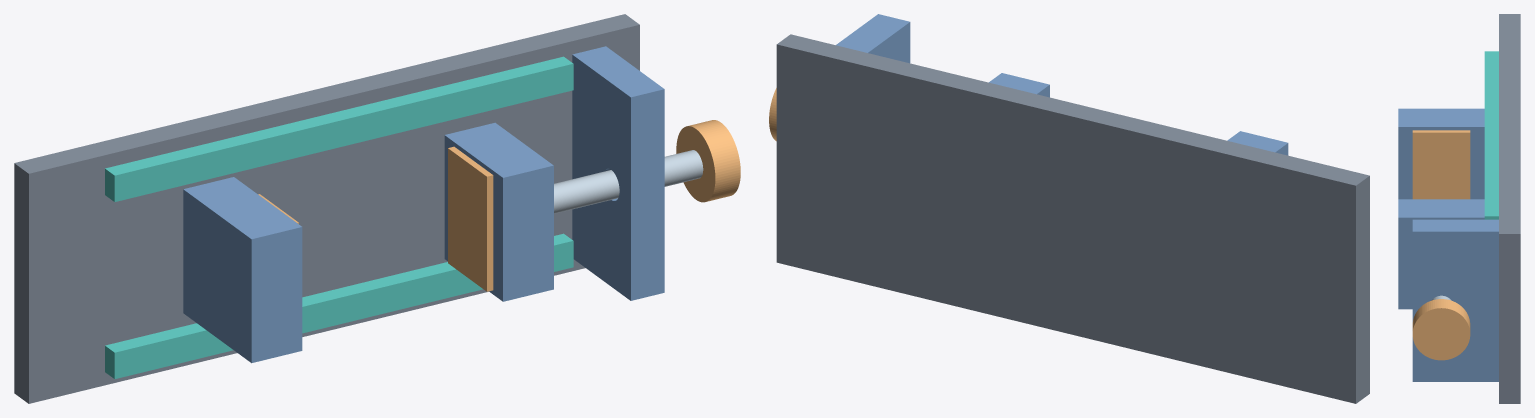
The model's file is assembly.glb.
3 renders of one model, left to right at view 1: azimuth 30°, elevation 25°; view 2: azimuth 150°, elevation 25°; view 3: azimuth 270°, elevation 25°, orthographic. The views are drawn at different scales.
Parts seen in each view (by area): view 1: base, actuator_support, fixed_jaw, rail_right, moving_jaw, rail_left, moving_pad, knob, rod; view 2: base, actuator_support, fixed_jaw, moving_jaw; view 3: actuator_support, base, fixed_pad, fixed_jaw, moving_jaw, knob, rail_right.
Part boxes in pixels (x1,y1,x2,y2): base: (14, 14, 639, 403); actuator_support: (572, 46, 664, 300); fixed_jaw: (183, 177, 302, 363); rail_right: (105, 56, 573, 201); moving_jaw: (444, 122, 553, 301); rail_left: (105, 233, 573, 378); moving_pad: (448, 146, 493, 291); knob: (676, 120, 740, 202); rod: (554, 150, 703, 213); base: (776, 34, 1369, 403); actuator_support: (836, 14, 910, 63); fixed_jaw: (1227, 131, 1288, 155); moving_jaw: (989, 73, 1049, 97); actuator_support: (1412, 219, 1498, 381); base: (1499, 14, 1520, 403); fixed_pad: (1412, 130, 1470, 199); fixed_jaw: (1398, 108, 1484, 199); moving_jaw: (1398, 199, 1484, 309); knob: (1412, 299, 1470, 360); rail_right: (1484, 51, 1498, 219).
Bounding box in the file's own units: 0.1405 × 0.0473 × 0.0309.
